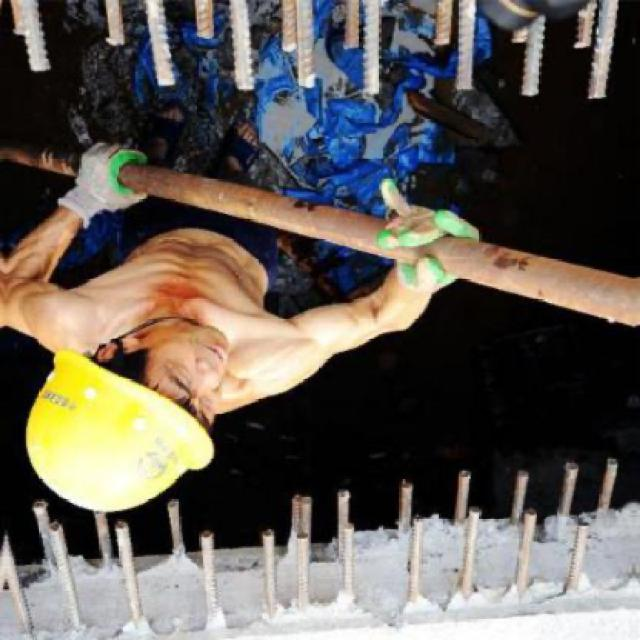con casco: (31, 200, 303, 566)
